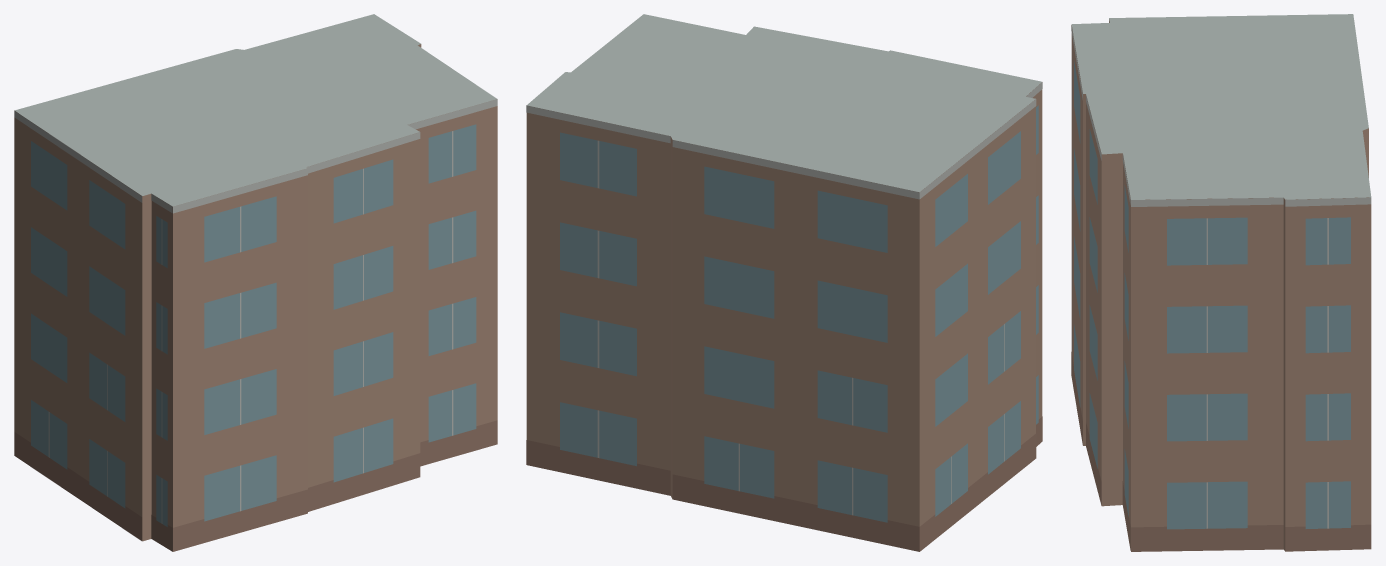
File: survey-upis-32568790.glb
3 views of the same model, side by side, from view 1: azimuth 30°, elevation 25°; view 2: azimuth 150°, elevation 25°; view 3: azimuth 270°, elevation 25° (orthographic). The views are drawn at different scales.
Visible parts, largest first — view 1: survey-upis-32568790.tmp; view 2: survey-upis-32568790.tmp; view 3: survey-upis-32568790.tmp.
Boxes of the visible parts, bbox=[...] form: survey-upis-32568790.tmp: bbox=[14, 14, 497, 551]; survey-upis-32568790.tmp: bbox=[526, 14, 1042, 551]; survey-upis-32568790.tmp: bbox=[1071, 14, 1371, 551].
Bounding box in the file's own units: 13.78 × 12.15 × 9.39.
